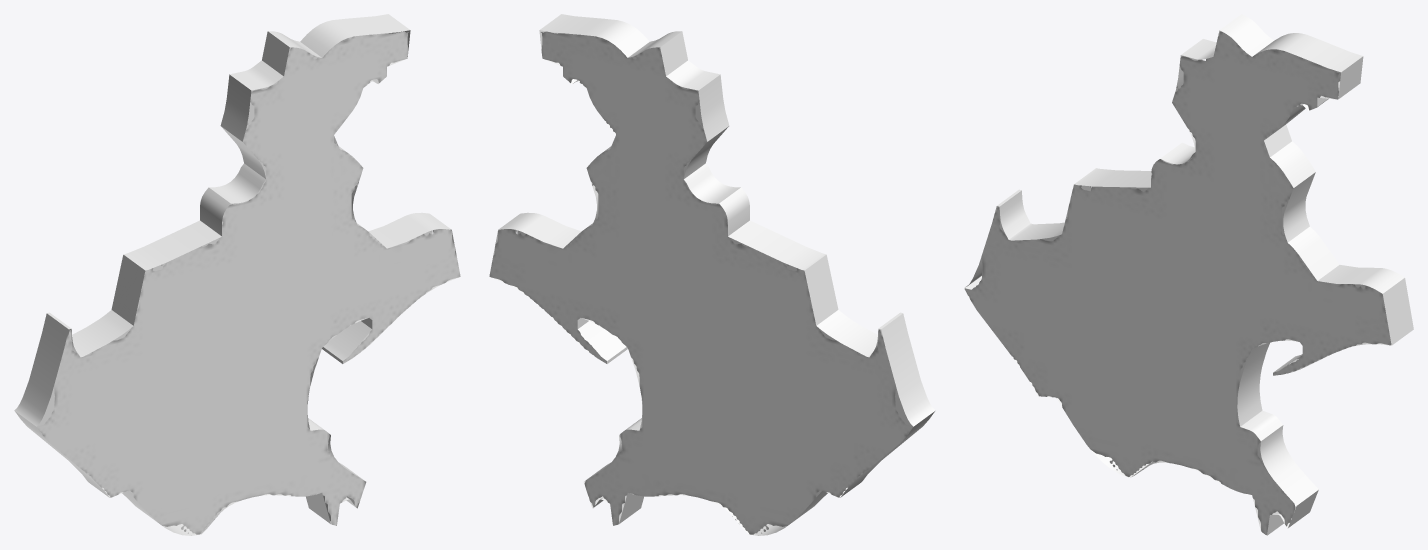
File: Veneto.obj
The picture shows the model from 3 angles, left to right: view 1: azimuth 30°, elevation 25°; view 2: azimuth 150°, elevation 25°; view 3: azimuth 330°, elevation 25°; orthographic projection.
Size of the model in its own units: 144 by 159 by 13.
3 materials, 3 textured.
